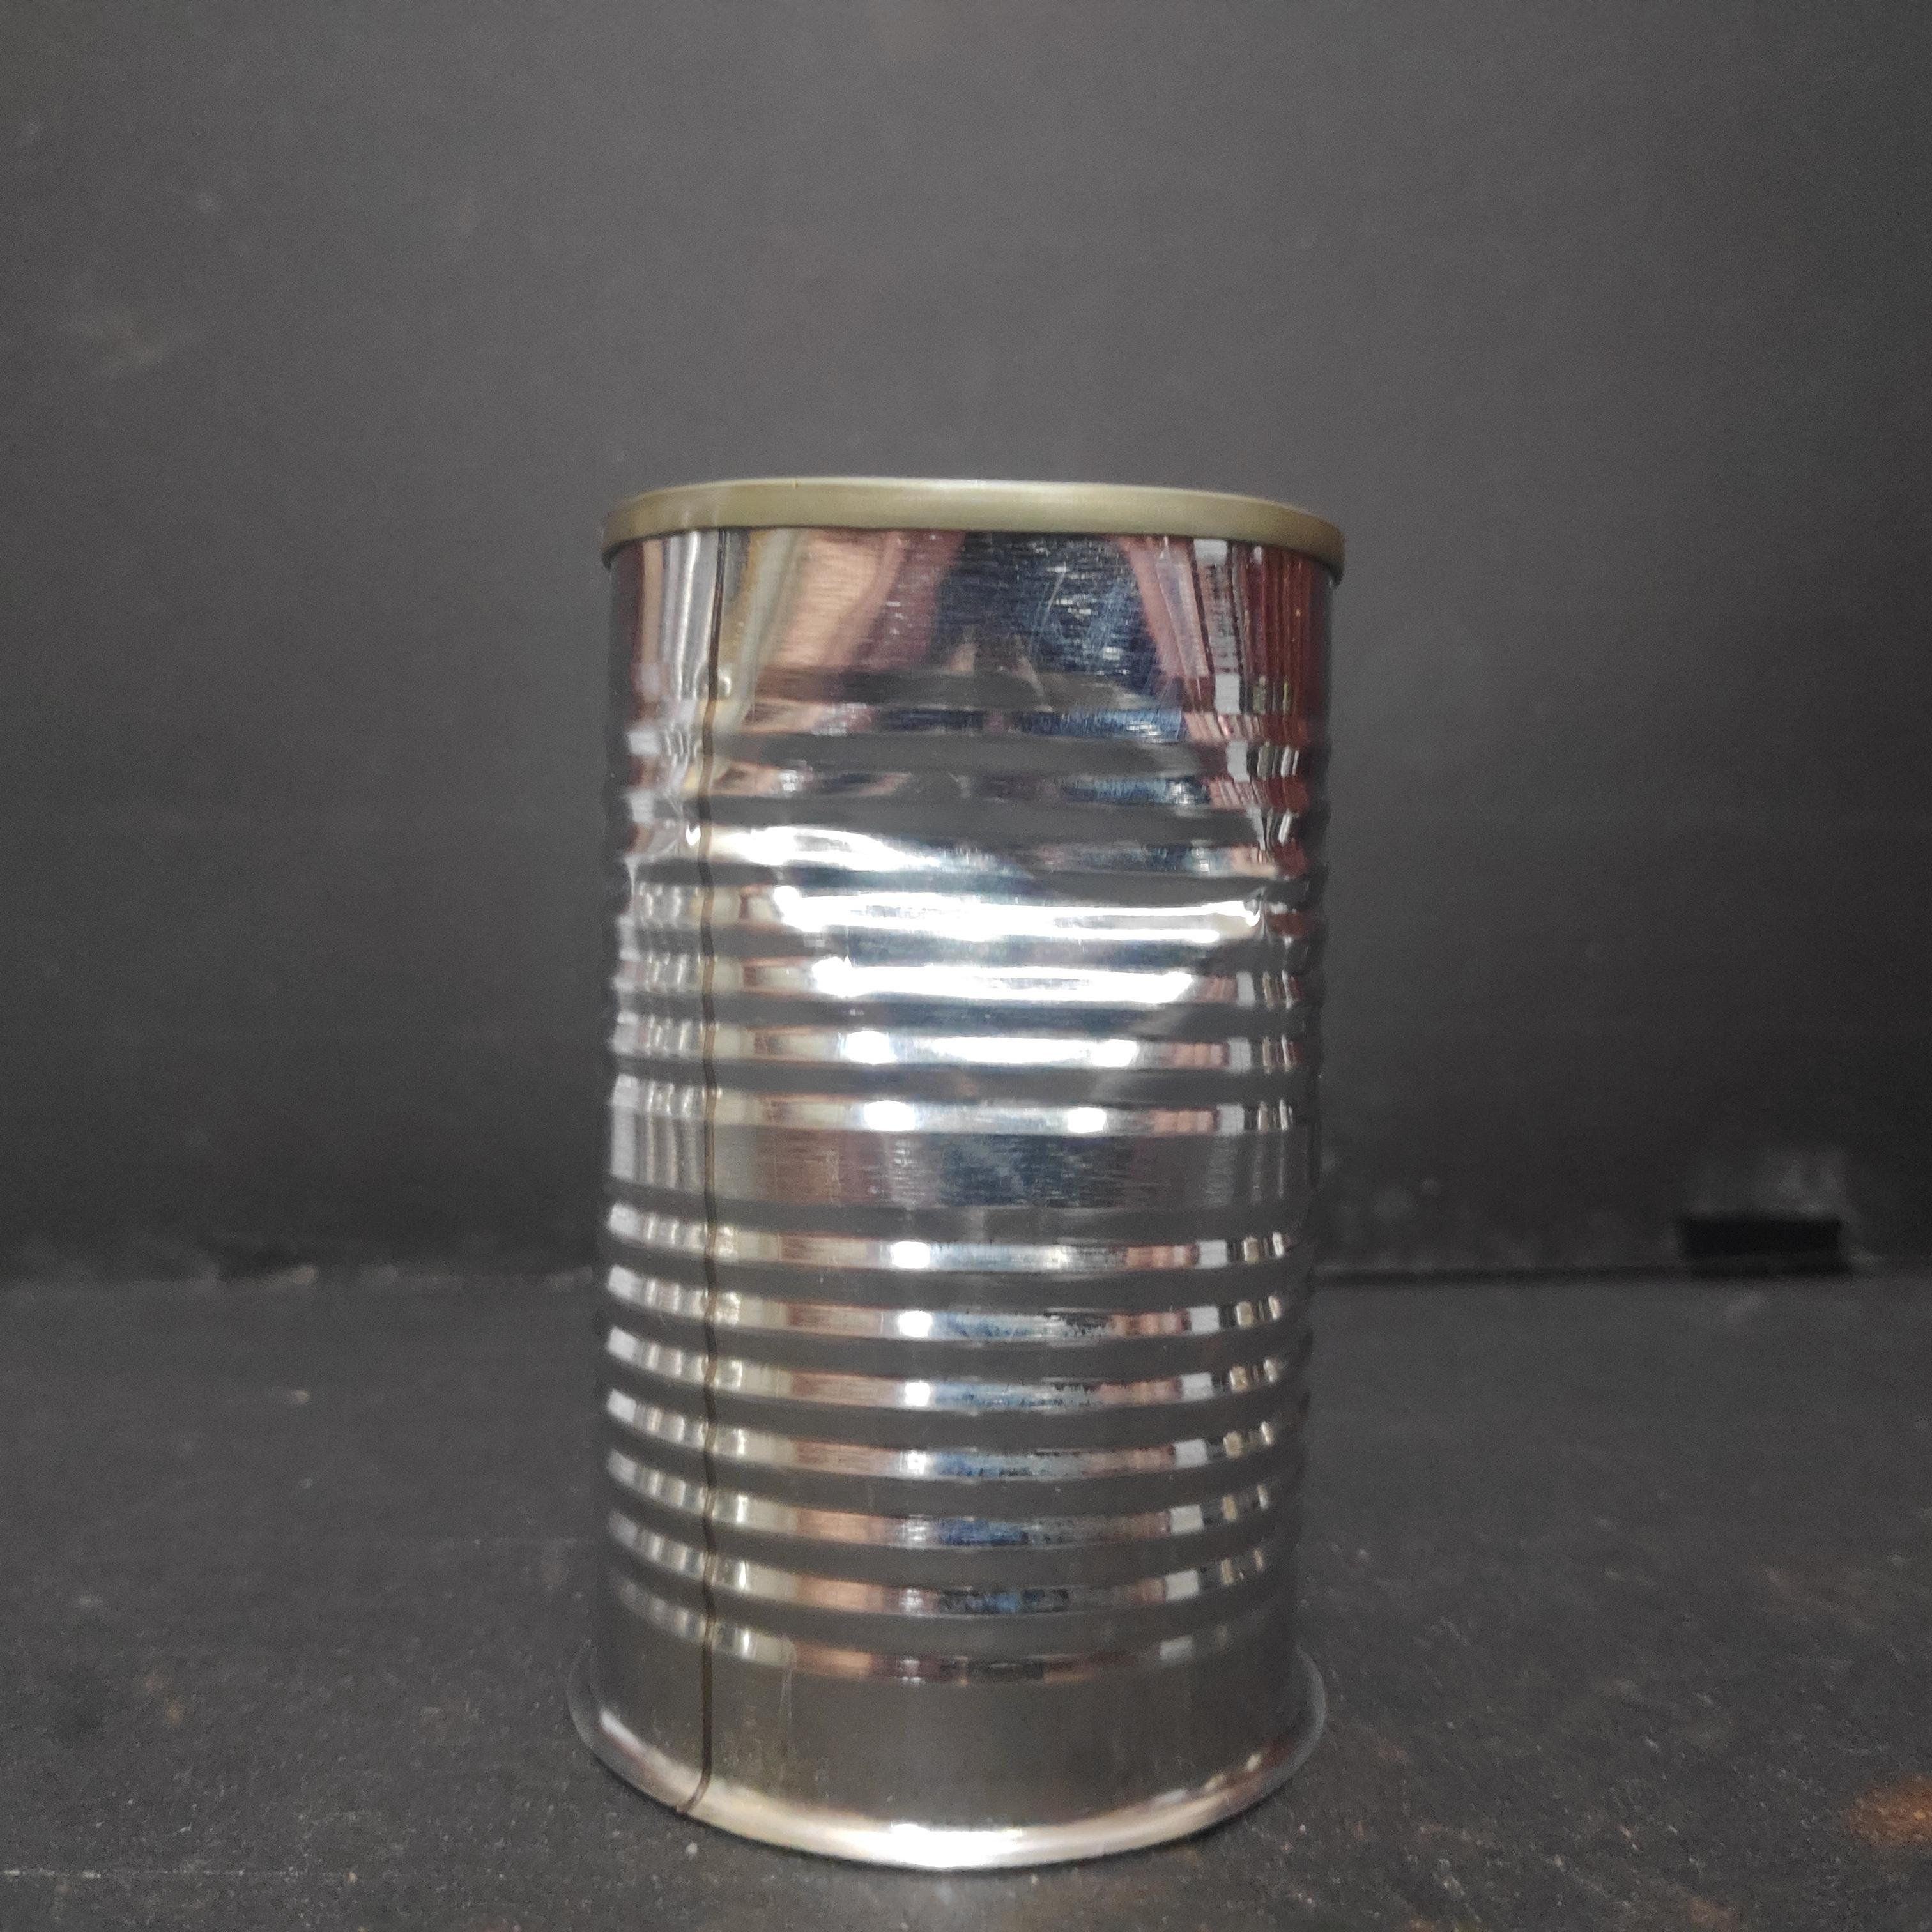Minor Defect: (589, 471, 1355, 1865)
